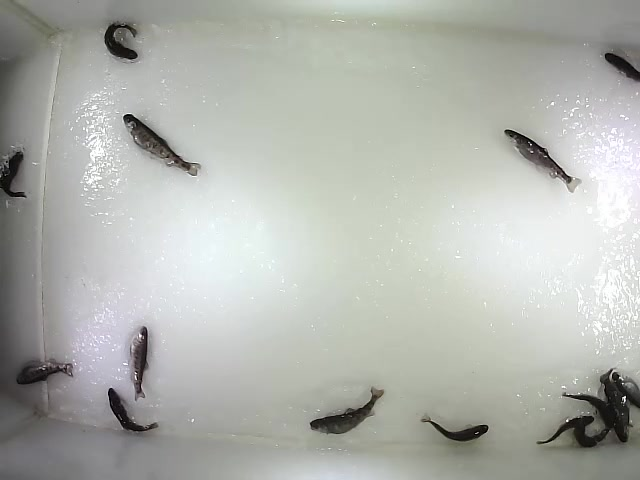fish: (502, 125, 583, 195), (120, 111, 203, 178), (308, 385, 386, 436), (597, 365, 632, 446), (106, 387, 160, 433), (418, 411, 490, 444), (124, 324, 153, 404), (560, 389, 615, 431), (534, 415, 595, 445), (15, 357, 76, 386), (103, 20, 142, 61), (1, 149, 27, 200), (572, 419, 613, 450)
